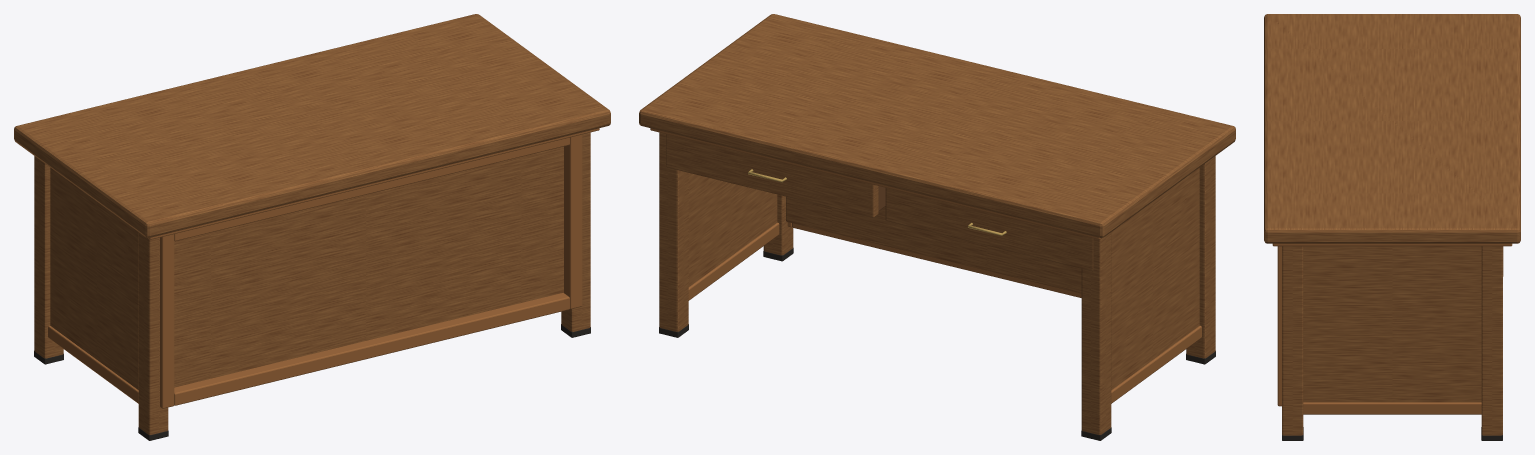
File: teacher_desk.glb
The picture shows the model from 3 angles, left to right: view 1: azimuth 30°, elevation 25°; view 2: azimuth 150°, elevation 25°; view 3: azimuth 270°, elevation 25°; orthographic projection. The views are drawn at different scales.
Parts seen in each view (by area): view 1: TeacherDesk_Thick_Desktop, TeacherDesk_Recessed_Front_Panel, TeacherDesk_Full_Side_Panel, TeacherDesk_Front_Frame_Rail, TeacherDesk_Square_Leg, TeacherDesk_Square_Leg.001, TeacherDesk_Front_Frame_Rail.001, TeacherDesk_Front_Frame_Stile.001, TeacherDesk_Front_Frame_Stile, TeacherDesk_Square_Leg.002, TeacherDesk_Side_Lower_Rail, TeacherDesk_Desktop_Under_Rim; view 2: TeacherDesk_Thick_Desktop, TeacherDesk_Full_Side_Panel, TeacherDesk_Recessed_Front_Panel, TeacherDesk_Drawer_Front.001, TeacherDesk_Drawer_Front, TeacherDesk_Full_Side_Panel.001, TeacherDesk_Square_Leg.001, TeacherDesk_Square_Leg.003, TeacherDesk_Square_Leg, TeacherDesk_Front_Frame_Rail, TeacherDesk_Side_Lower_Rail.001, TeacherDesk_Side_Lower_Rail (+2 smaller); view 3: TeacherDesk_Thick_Desktop, TeacherDesk_Full_Side_Panel.001, TeacherDesk_Square_Leg.002, TeacherDesk_Square_Leg.003, TeacherDesk_Side_Lower_Rail.001, TeacherDesk_Desktop_Under_Rim, TeacherDesk_Front_Frame_Stile.001.
Boxes of the visible parts, x1,y1,x2,y2 form: TeacherDesk_Thick_Desktop: (14,14,610,237); TeacherDesk_Recessed_Front_Panel: (174,146,563,387); TeacherDesk_Full_Side_Panel: (50,168,138,389); TeacherDesk_Front_Frame_Rail: (174,293,569,405); TeacherDesk_Square_Leg: (138,232,168,434); TeacherDesk_Square_Leg.001: (34,156,63,358); TeacherDesk_Front_Frame_Rail.001: (174,137,569,241); TeacherDesk_Front_Frame_Stile.001: (564,134,582,308); TeacherDesk_Front_Frame_Stile: (160,234,174,408); TeacherDesk_Square_Leg.002: (561,132,590,331); TeacherDesk_Side_Lower_Rail: (48,325,138,403); TeacherDesk_Desktop_Under_Rim: (148,128,599,239); TeacherDesk_Thick_Desktop: (639,14,1235,237); TeacherDesk_Full_Side_Panel: (1111,168,1199,389); TeacherDesk_Recessed_Front_Panel: (786,196,1081,293); TeacherDesk_Drawer_Front.001: (666,134,878,217); TeacherDesk_Drawer_Front: (885,188,1093,271); TeacherDesk_Full_Side_Panel.001: (688,173,777,286); TeacherDesk_Square_Leg.001: (1081,232,1111,434); TeacherDesk_Square_Leg.003: (659,132,688,331); TeacherDesk_Square_Leg: (1186,156,1215,358); TeacherDesk_Front_Frame_Rail: (792,223,1081,297); TeacherDesk_Side_Lower_Rail.001: (688,222,779,300); TeacherDesk_Side_Lower_Rail: (1111,325,1201,403); TeacherDesk_Thick_Desktop: (1264,14,1520,243); TeacherDesk_Full_Side_Panel.001: (1303,246,1481,402); TeacherDesk_Square_Leg.002: (1282,246,1303,435); TeacherDesk_Square_Leg.003: (1481,246,1502,435); TeacherDesk_Side_Lower_Rail.001: (1303,402,1481,414); TeacherDesk_Desktop_Under_Rim: (1272,243,1512,246); TeacherDesk_Front_Frame_Stile.001: (1277,246,1281,406).
Size of the model in its own units: 1.8 by 0.84 by 0.9.
5 materials, 1 textured.
